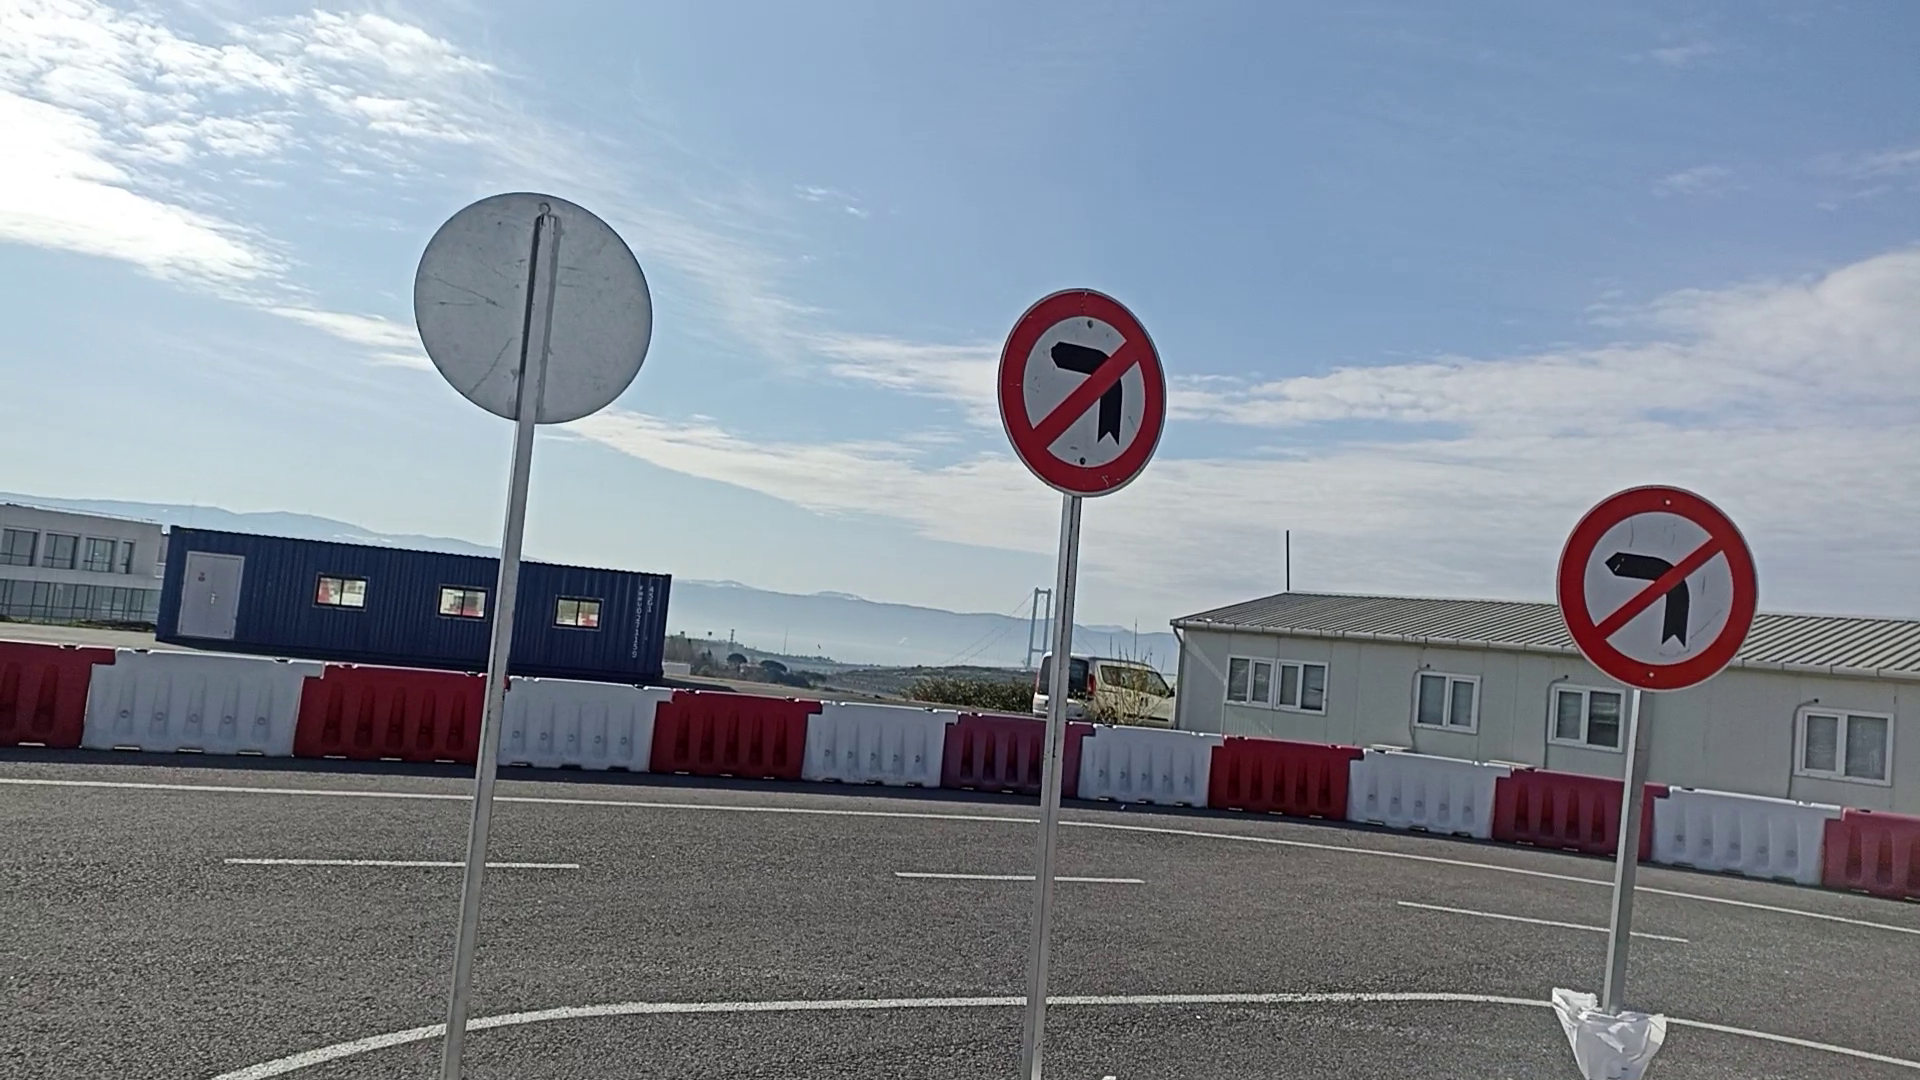noleft: (1553, 483, 1762, 698), (994, 285, 1168, 500)
